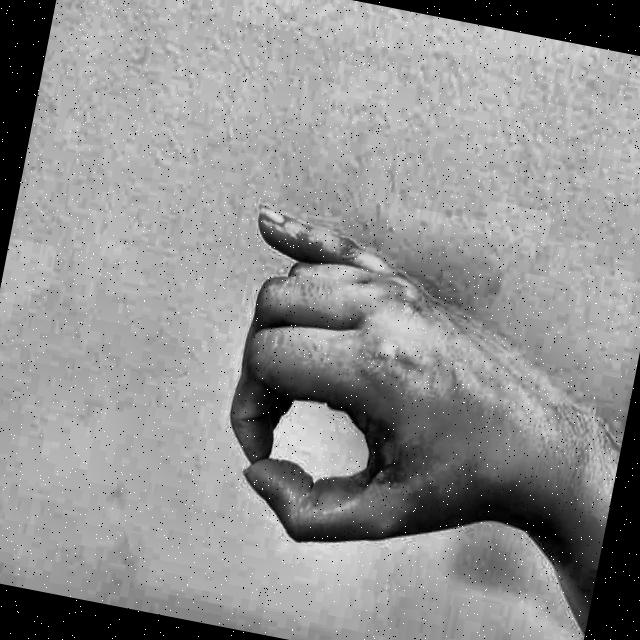Ou: (164, 150, 586, 613)
